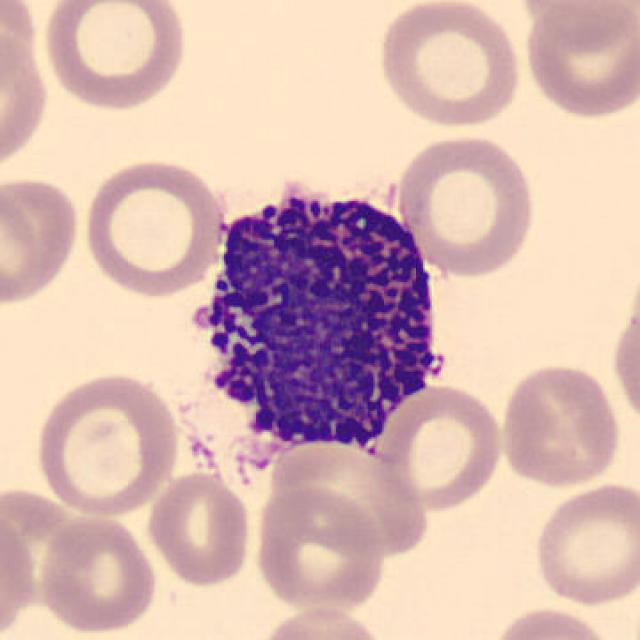Basophil: (176, 168, 464, 483)
RBC: (30, 368, 183, 518), (391, 130, 541, 280), (80, 153, 229, 300), (373, 0, 524, 130), (250, 482, 388, 616), (372, 379, 506, 515), (273, 444, 426, 557), (39, 0, 190, 113), (496, 360, 624, 490), (34, 509, 160, 636), (519, 2, 638, 120), (530, 478, 638, 608), (142, 467, 256, 589), (0, 171, 82, 309), (0, 19, 52, 180), (0, 495, 41, 640), (487, 603, 621, 640), (252, 604, 389, 640), (608, 293, 640, 432), (513, 0, 634, 35)
